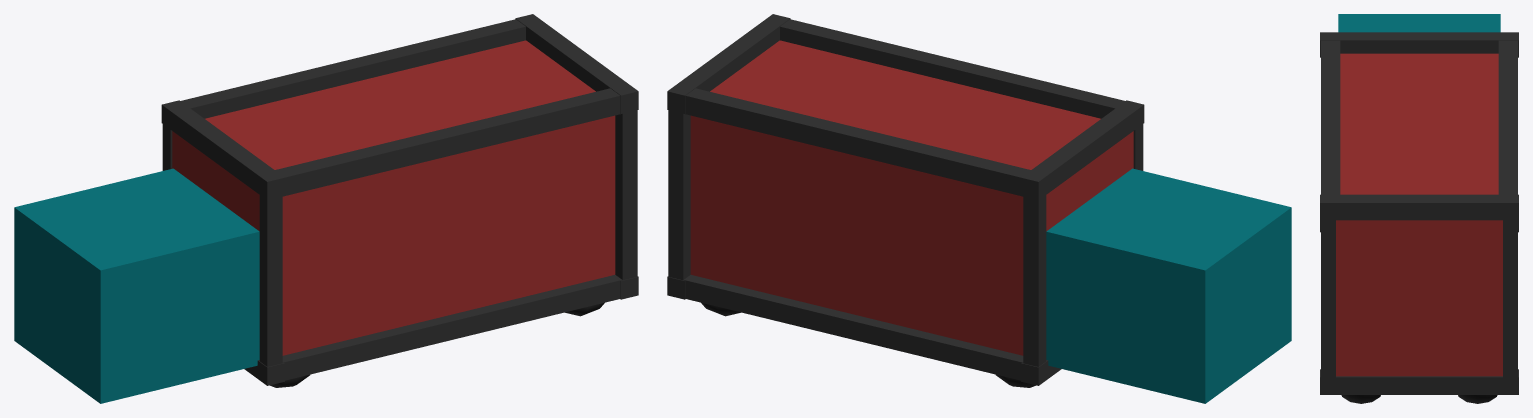
Rendered from truck.fbx.
3 renders of one model, left to right at view 1: azimuth 30°, elevation 25°; view 2: azimuth 150°, elevation 25°; view 3: azimuth 270°, elevation 25°, orthographic. The views are drawn at different scales.
Visible parts, largest first — view 1: Cube.001, Cube, Cube.006, Cube.005, Cube.002, Cube.003, Cube.004; view 2: Cube.001, Cube, Cube.006, Cube.005, Cube.002, Cube.003, Cube.004; view 3: Cube.001, Cube.003, Cube.006, Cube.002, Cube.004, Cube, Torus.
Boxes of the visible parts, box(x1,y1,x2,y2) form: Cube.001: box(172, 40, 615, 355); Cube: box(14, 168, 259, 403); Cube.006: box(180, 19, 620, 195); Cube.005: box(282, 275, 621, 380); Cube.002: box(162, 110, 637, 366); Cube.003: box(161, 14, 638, 200); Cube.004: box(244, 276, 638, 385); Cube.001: box(690, 40, 1133, 355); Cube: box(1046, 168, 1291, 403); Cube.006: box(685, 19, 1125, 195); Cube.005: box(684, 275, 1023, 380); Cube.002: box(668, 110, 1143, 366); Cube.003: box(667, 14, 1144, 200); Cube.004: box(667, 276, 1061, 385); Cube.001: box(1336, 53, 1502, 376); Cube.003: box(1320, 32, 1518, 220); Cube.006: box(1321, 40, 1517, 194); Cube.002: box(1321, 220, 1517, 377); Cube.004: box(1320, 220, 1518, 394); Cube: box(1338, 14, 1500, 32); Torus: box(1341, 395, 1497, 403).
Size of the model in its own units: 2991 by 1235 by 1036.
